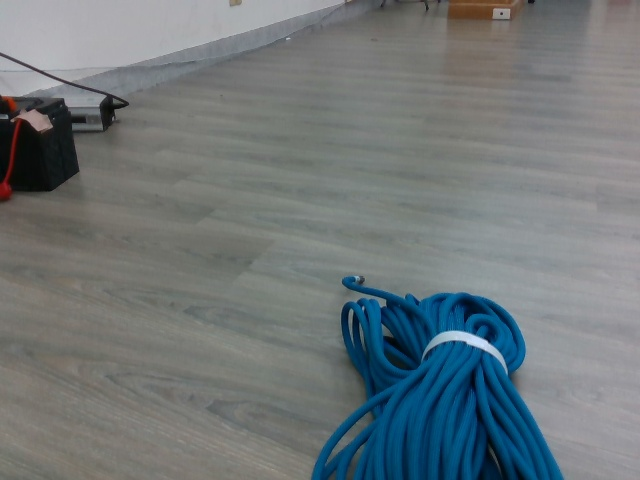rope: (320, 277, 559, 480)
